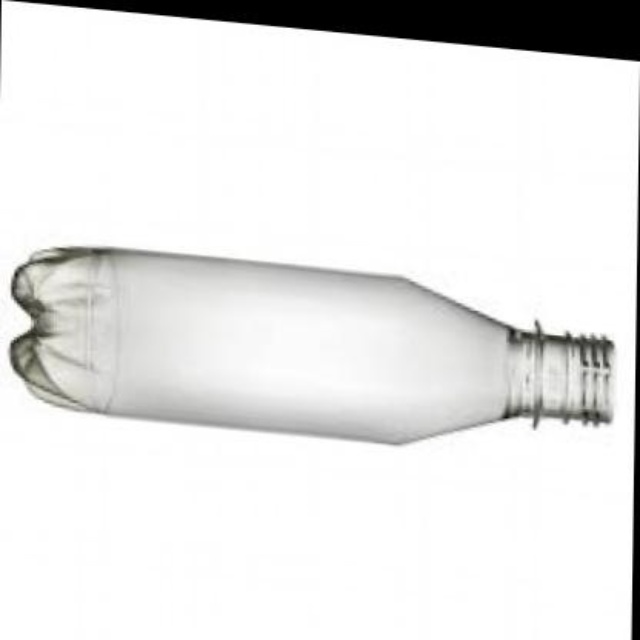trash: (11, 248, 612, 442)
